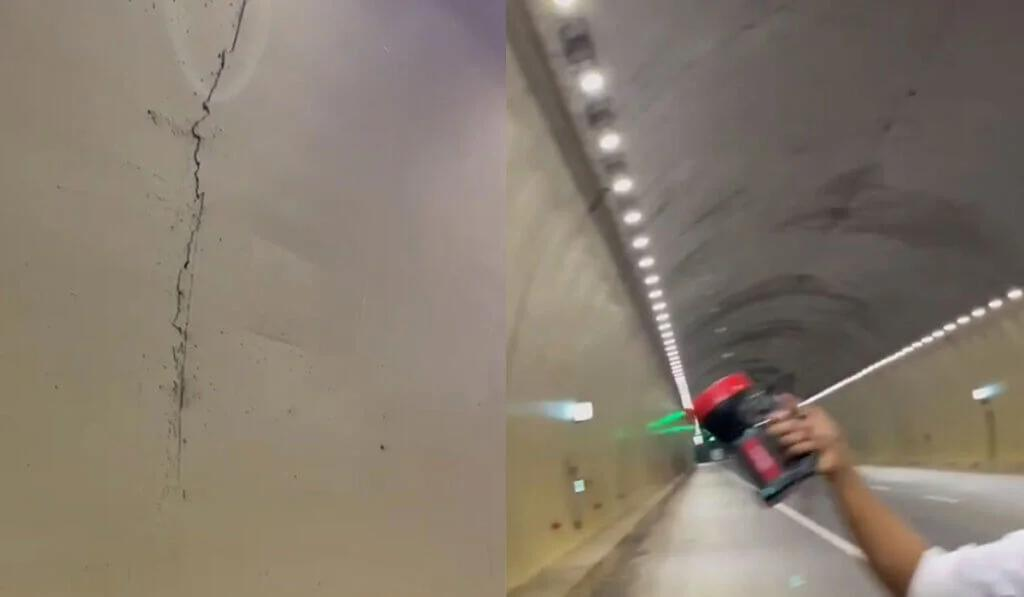Crack: (140, 0, 278, 522)
